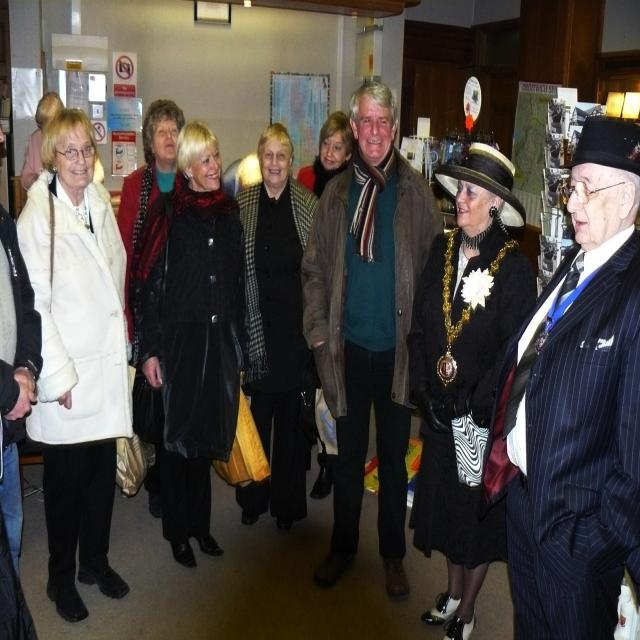body: (478, 108, 640, 640), (301, 80, 443, 601), (10, 108, 146, 630), (407, 139, 539, 640), (126, 119, 250, 570), (236, 120, 321, 527), (295, 109, 357, 503), (0, 127, 40, 639), (118, 97, 188, 365), (24, 92, 66, 127), (89, 153, 110, 189)
